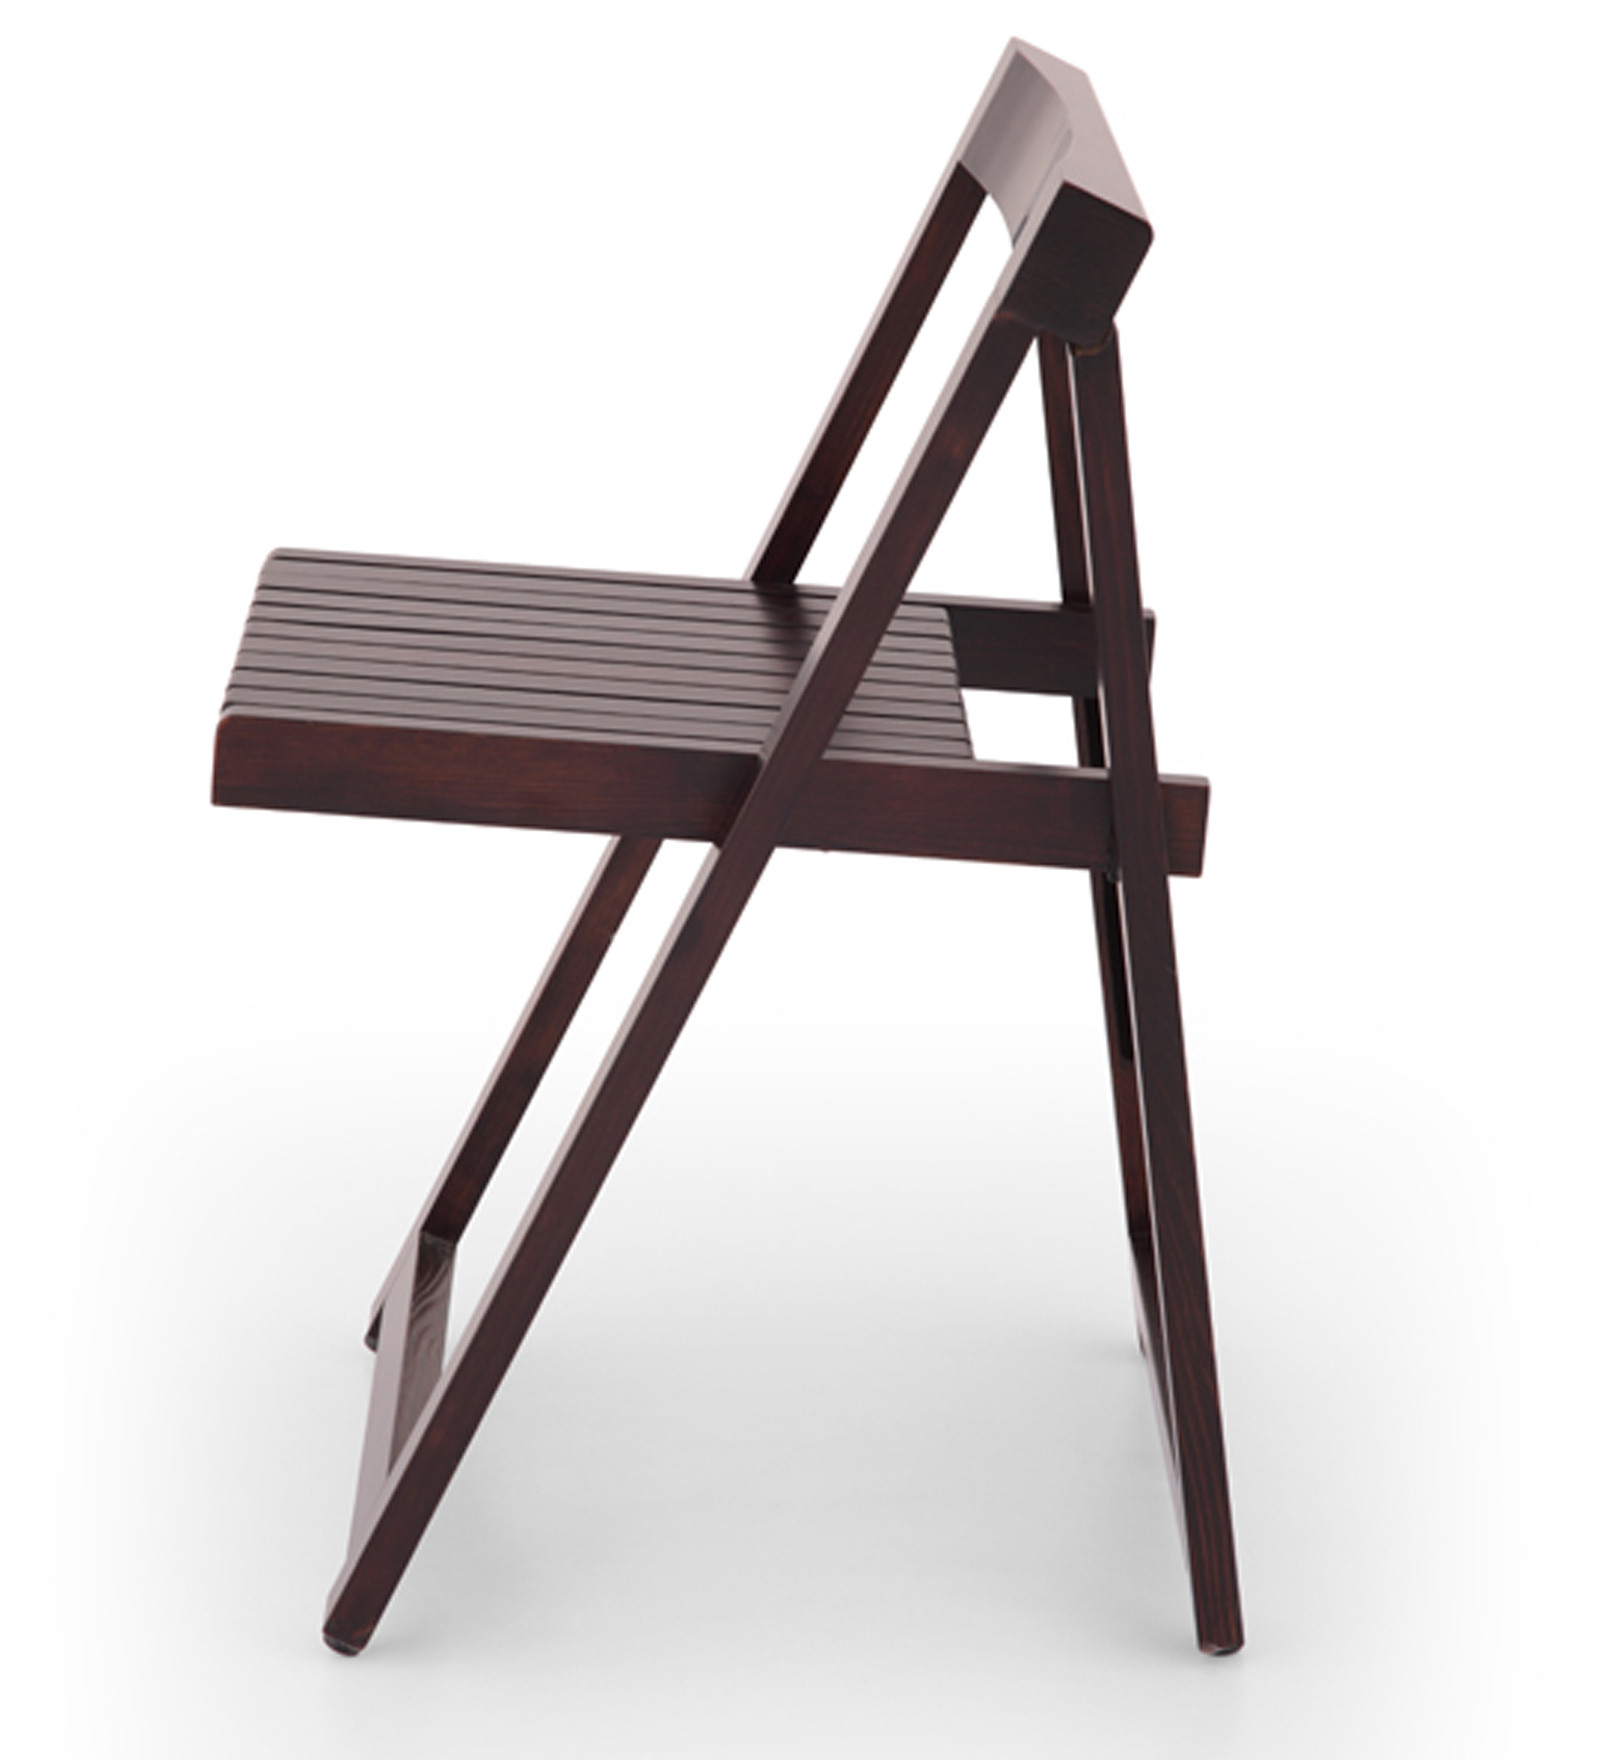Foldable Dining Chair in Ebony Finish by Ekbote Furniture: (141, 26, 1312, 1712)
